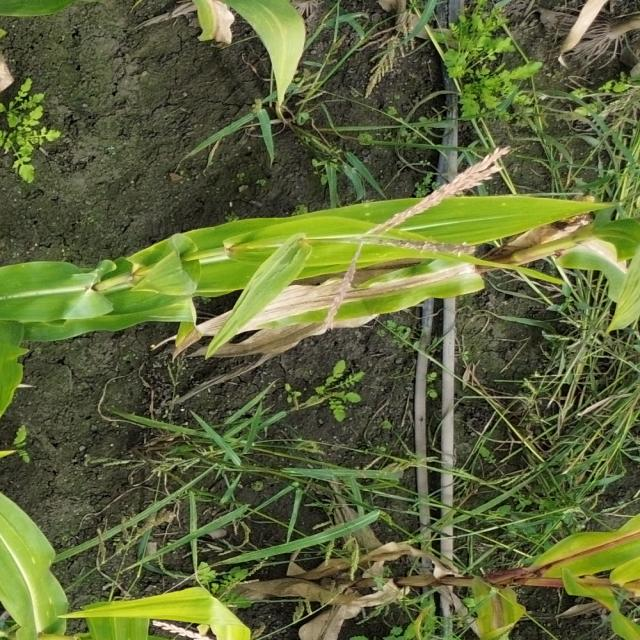gray-leaf-spot: (18, 549, 72, 625)
northern-leaf-blight: (272, 269, 477, 316), (575, 222, 640, 298), (475, 582, 521, 637)
